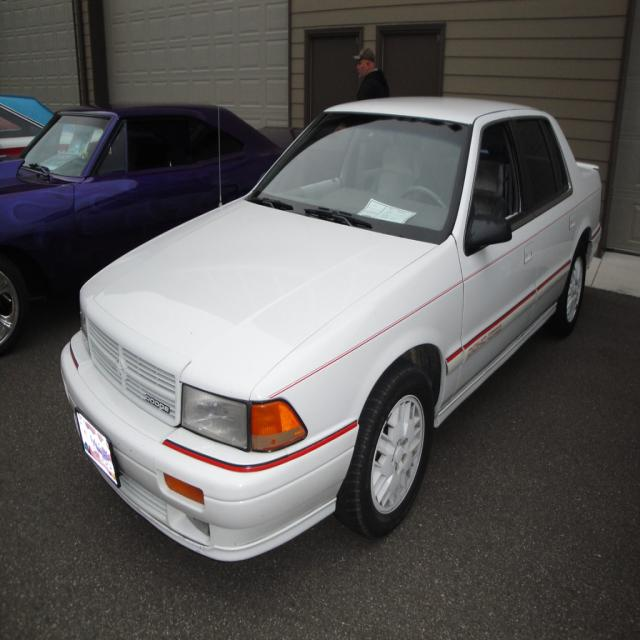car: (59, 69, 604, 563)
